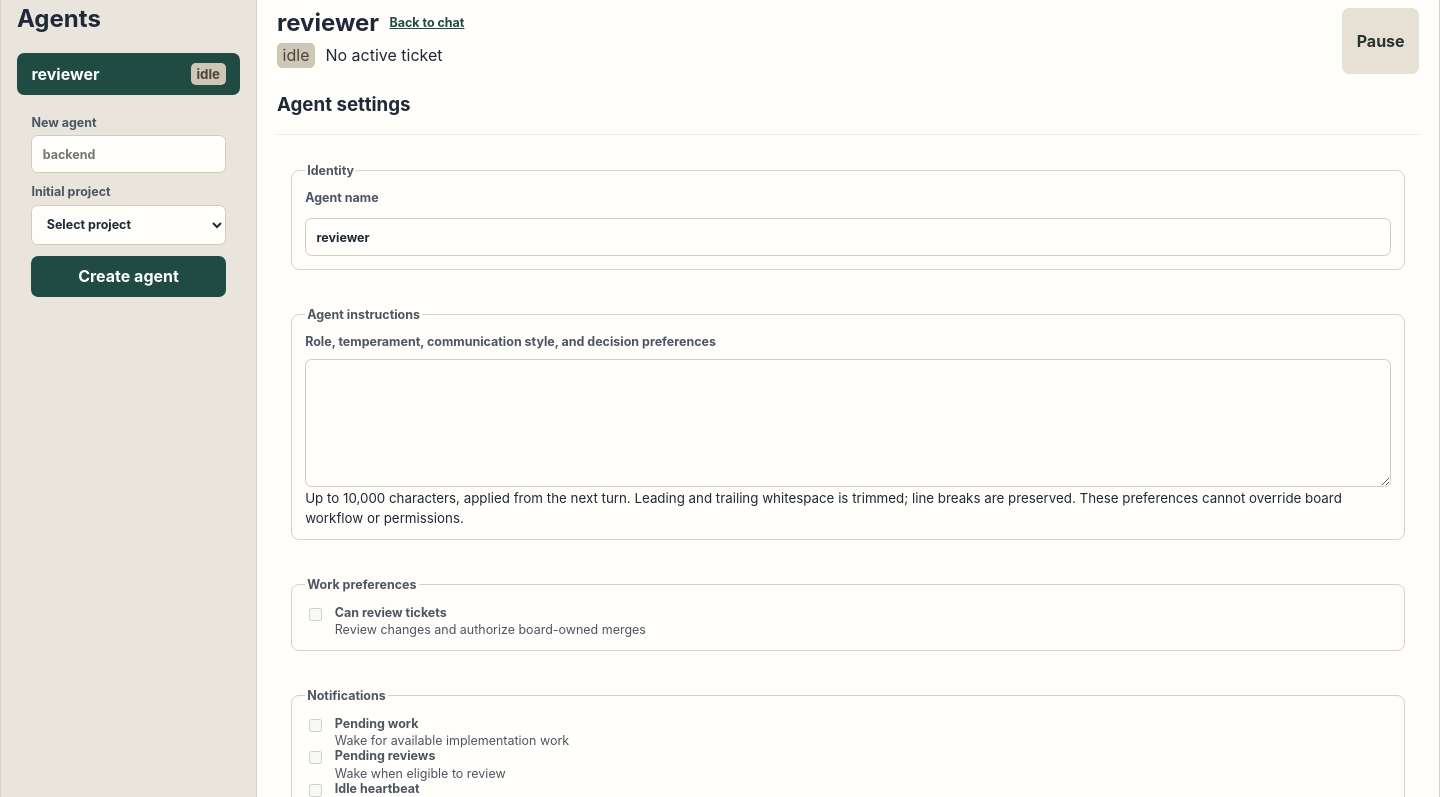
Test: AgentWorkspace › saves agent instructions and preserves the draft when saving fails
Expected: the checkbox labelled "Pending work Wake for available implementation work" is enabled, [309,719,322,732]
Type "Challenge assumptions and explain tradeoffs." into the text box labelled "Role, temperament" at {"x": 848, "y": 423}, box [305,359,1391,487]
(page scrolled)
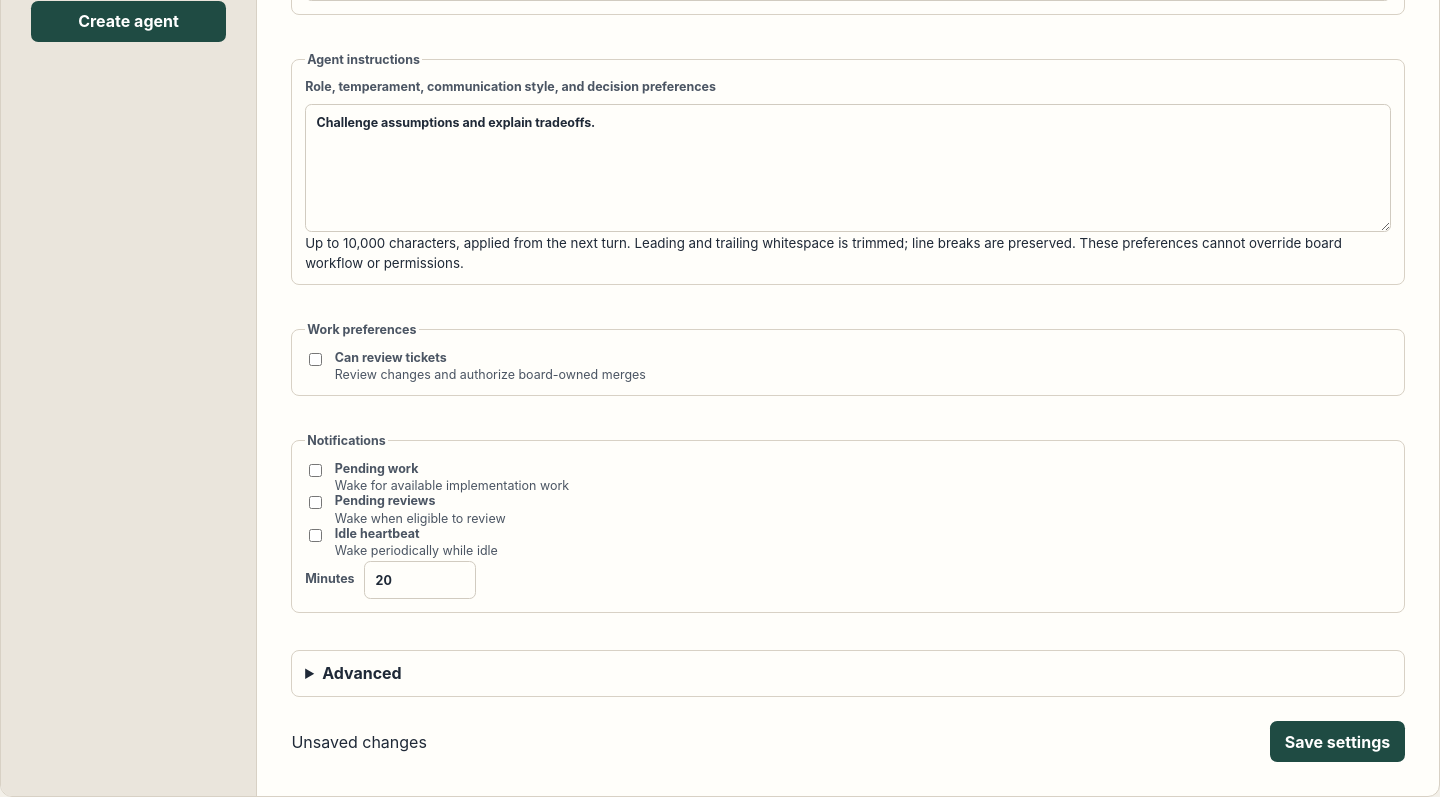
Click the button "Save settings" at {"x": 1337, "y": 742}, box [1270,721,1405,762]
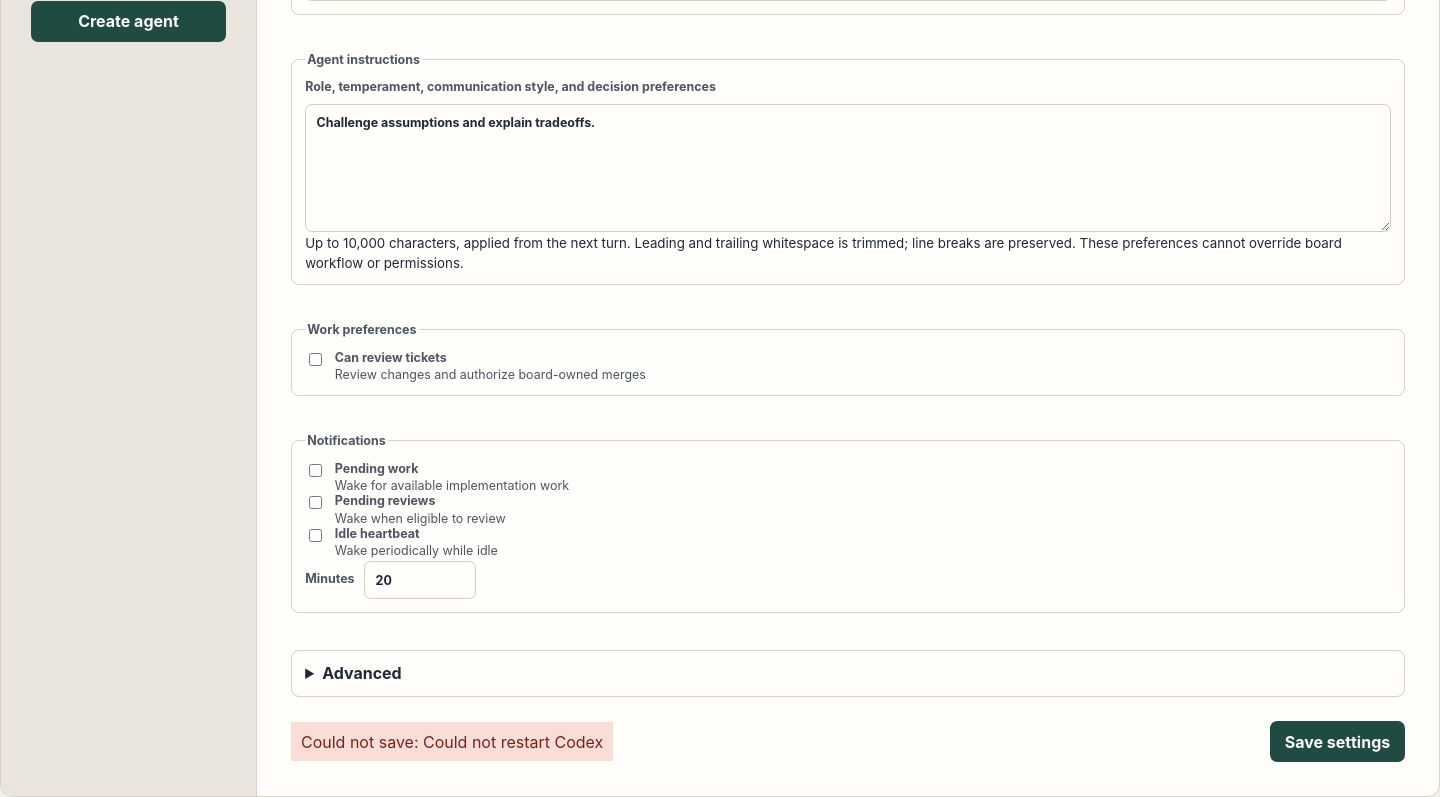
Result: the text "Could not save: Could not restart Codex" is shown at [291,722,613,761]
